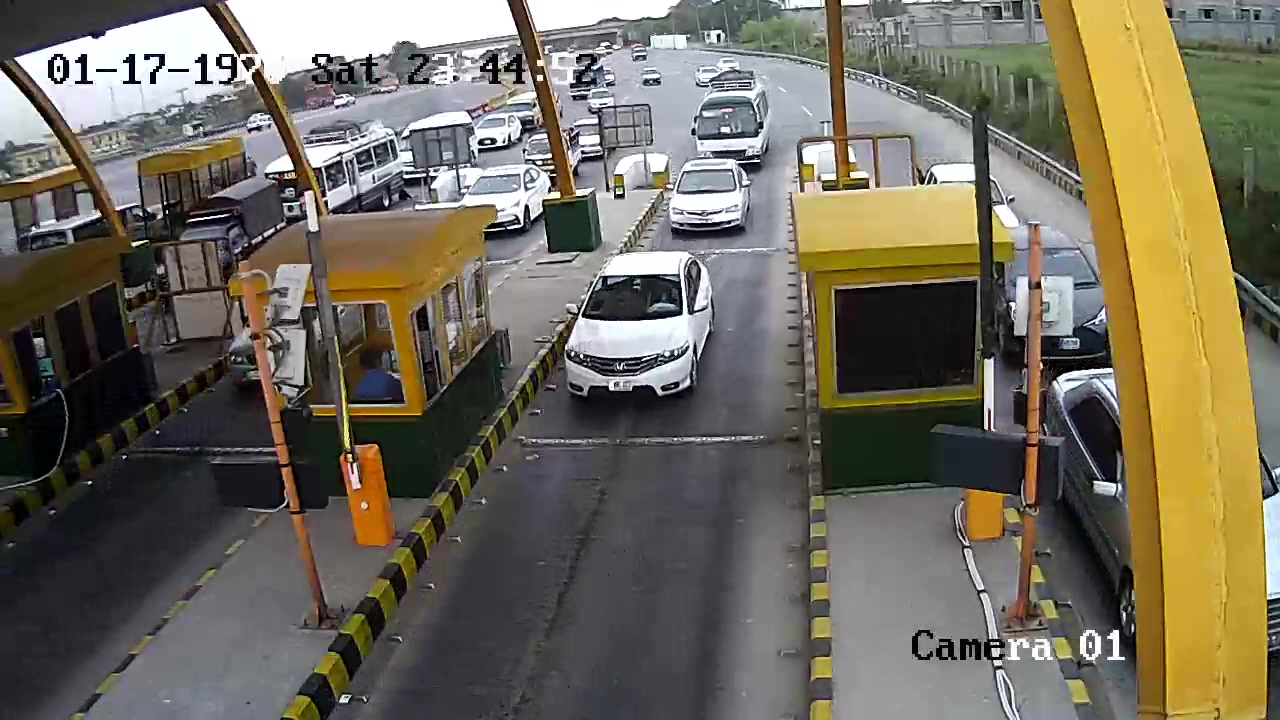F1: (564, 240, 725, 412)
